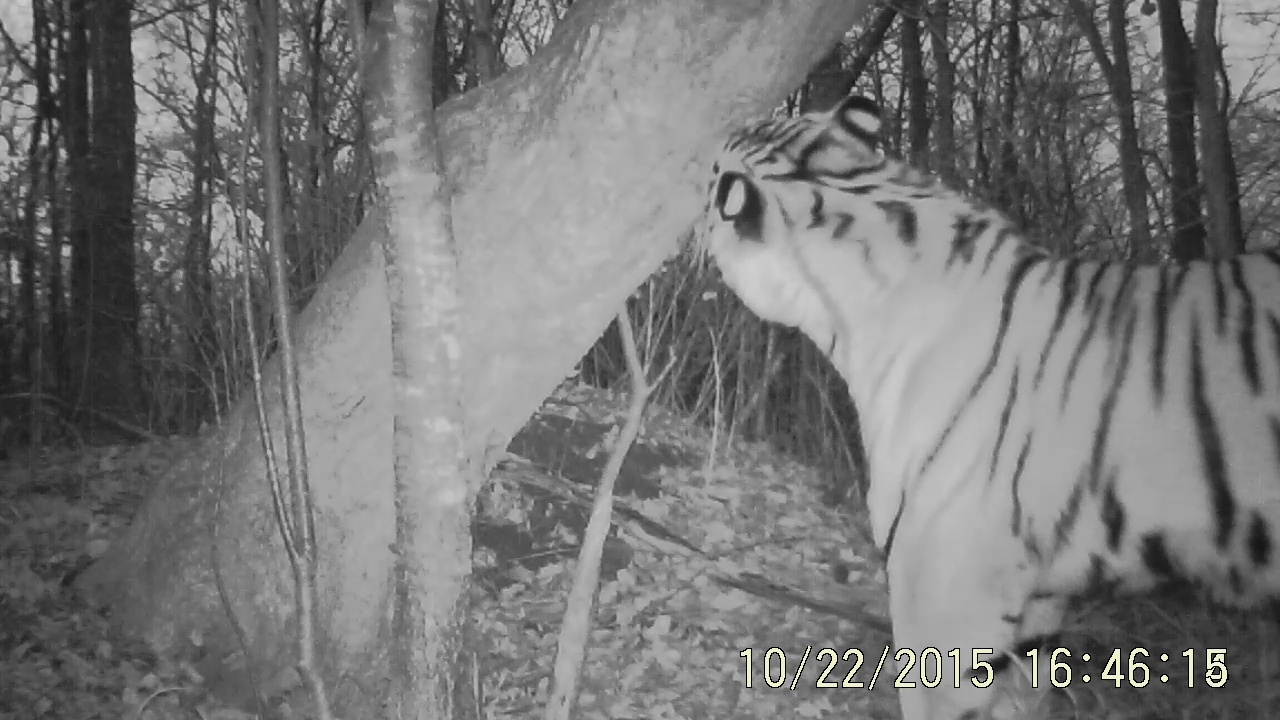Tiger: (682, 105, 1280, 630)
